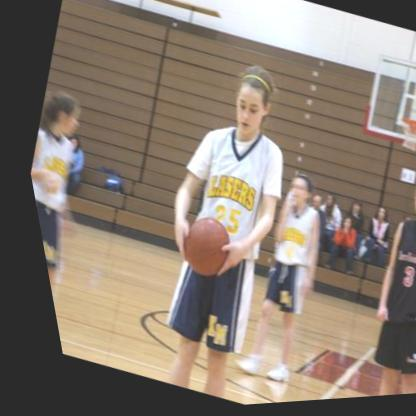basketball: (160, 212, 232, 286)
rim: (395, 120, 416, 137)
